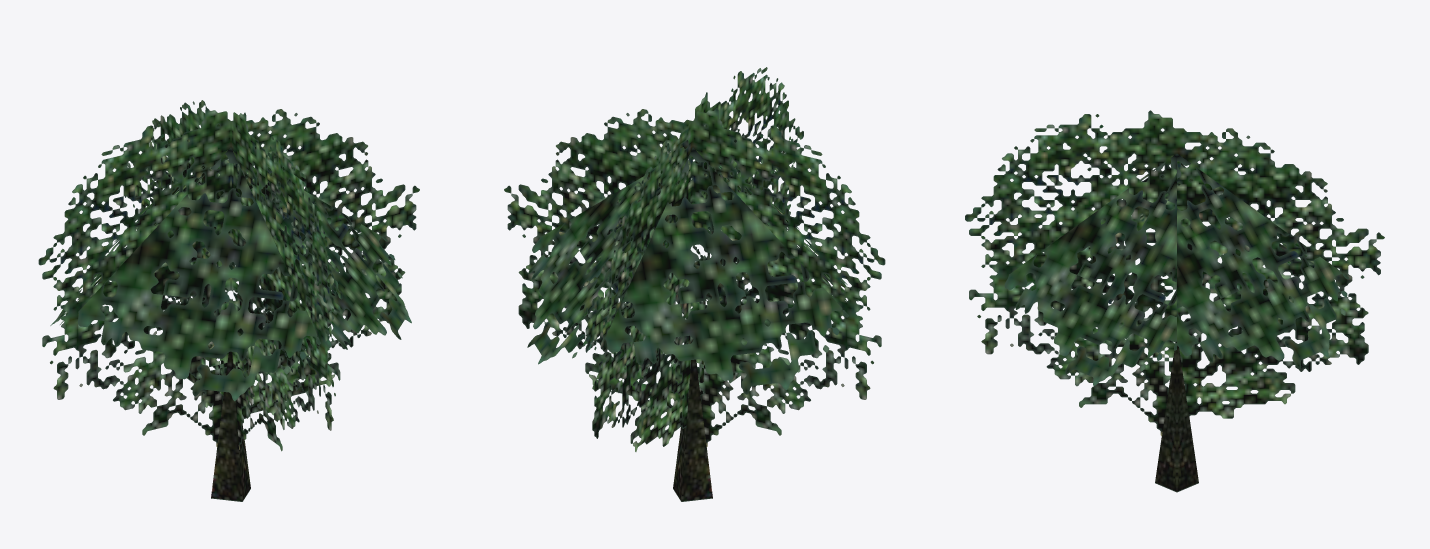
Rendered from maple3.glb.
3 views of the same model, side by side, from view 1: azimuth 30°, elevation 25°; view 2: azimuth 150°, elevation 25°; view 3: azimuth 270°, elevation 25° (orthographic). The views are drawn at different scales.
Parts seen in each view (by area): view 1: Plane02; view 2: Plane02; view 3: Plane02.
Part boxes in pixels (box(x1,y1,x2,y2)): Plane02: box(38, 100, 419, 501); Plane02: box(504, 67, 885, 501); Plane02: box(965, 110, 1384, 492).
Size of the model in its own units: 14.81 by 12.96 by 14.81.
Materials: 1 (1 with a texture image).
